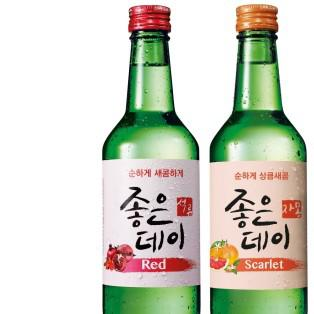soju: (100, 4, 309, 313)
